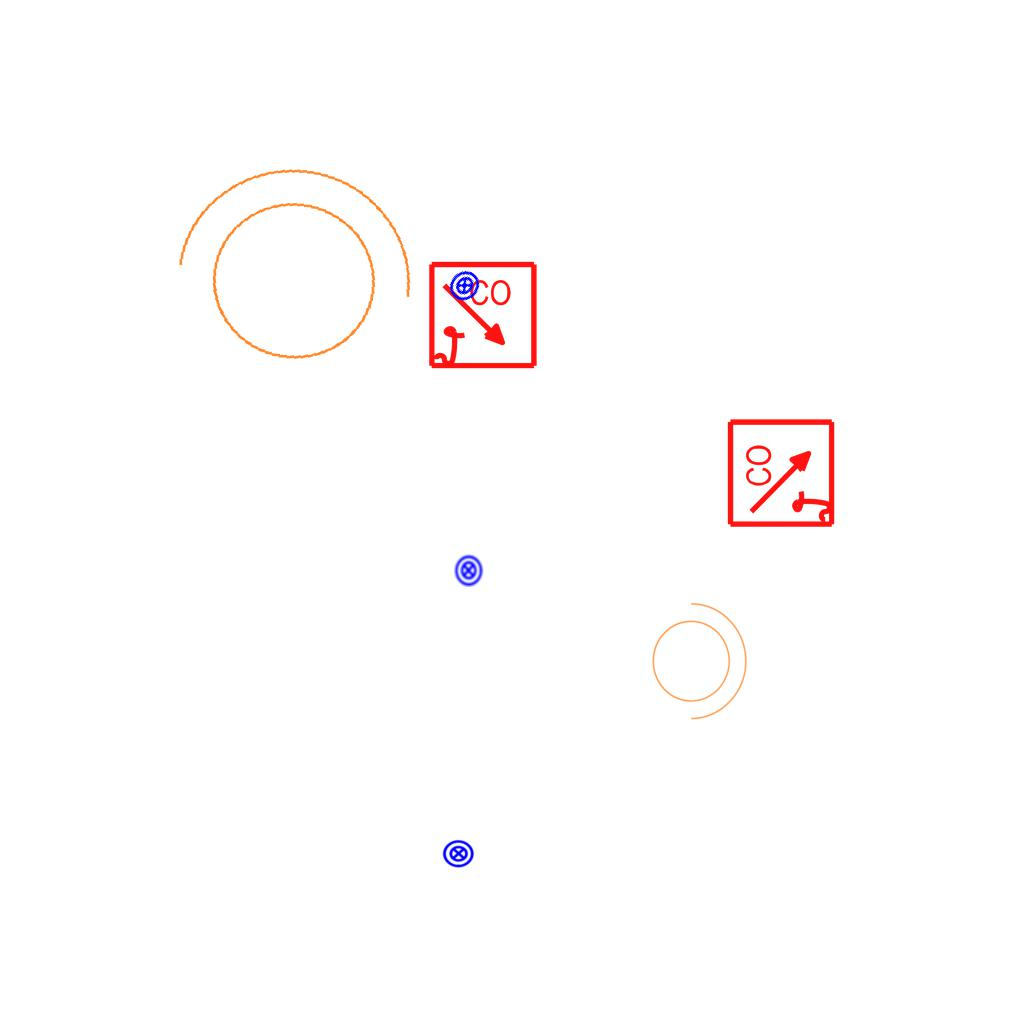ROA_Rauchmelder_optisch_mit_Signalgeber_(Sockelsirene): (427, 260, 540, 373), (726, 416, 839, 529)
Scheinwerfer_fuer_Alarmbeleuchtung: (142, 140, 436, 401), (640, 592, 752, 724)
Taster_beleuchtet: (441, 262, 488, 309), (442, 837, 475, 870), (452, 554, 485, 587)
